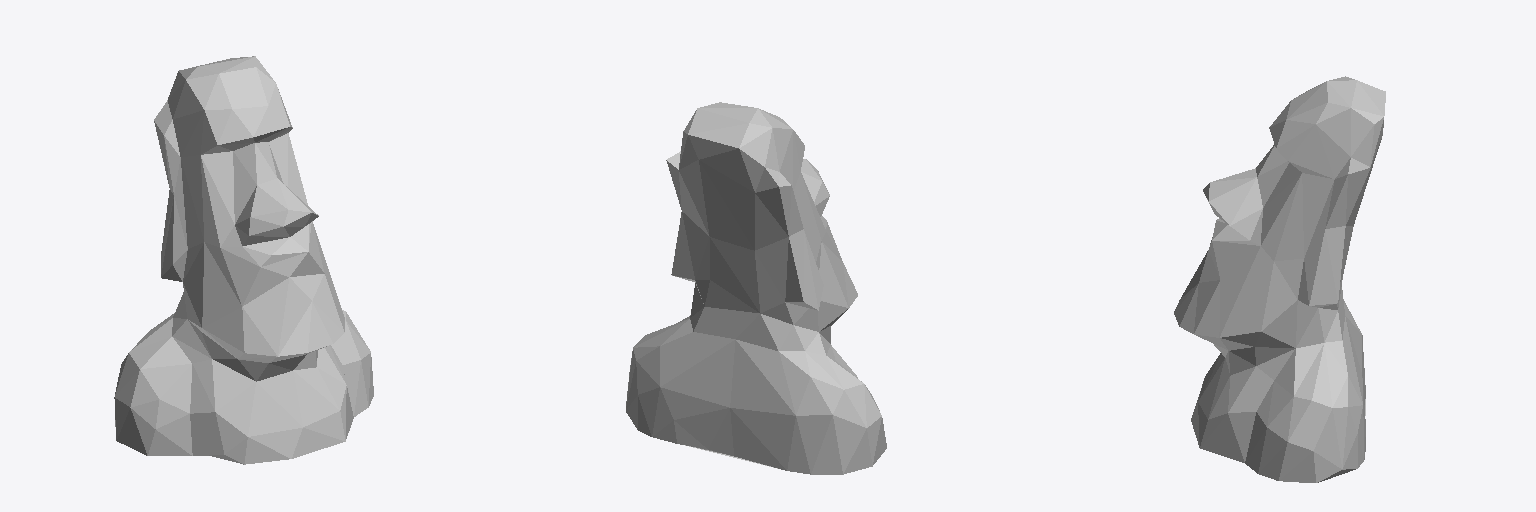
Rendered from moai312.obj.
The picture shows the model from 3 angles: view 1: azimuth 30°, elevation 25°; view 2: azimuth 150°, elevation 25°; view 3: azimuth 270°, elevation 25°; orthographic projection.
Visible parts, largest first — view 1: STL object; view 2: STL object; view 3: STL object.
Boxes of the visible parts, box(x1,y1,x2,y2) form: STL object: box(114, 56, 373, 464); STL object: box(626, 102, 886, 474); STL object: box(1174, 76, 1385, 482).
Bounding box in the file's own units: 47.58 × 62.76 × 35.91.